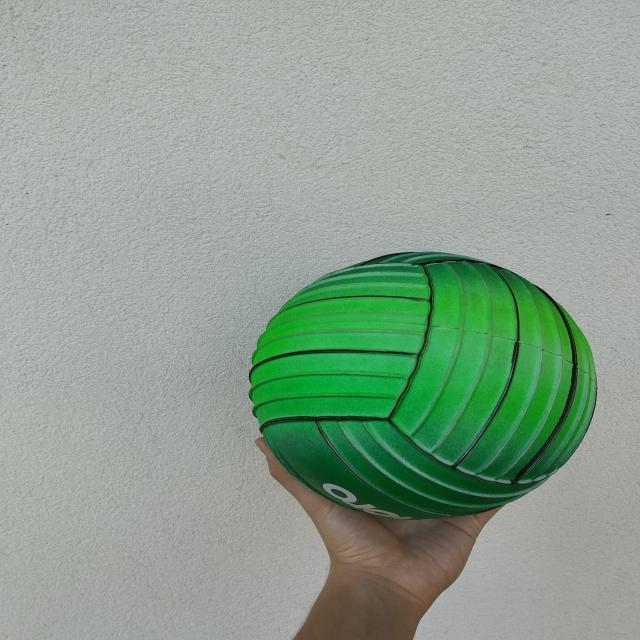zielona: (248, 251, 598, 520)
